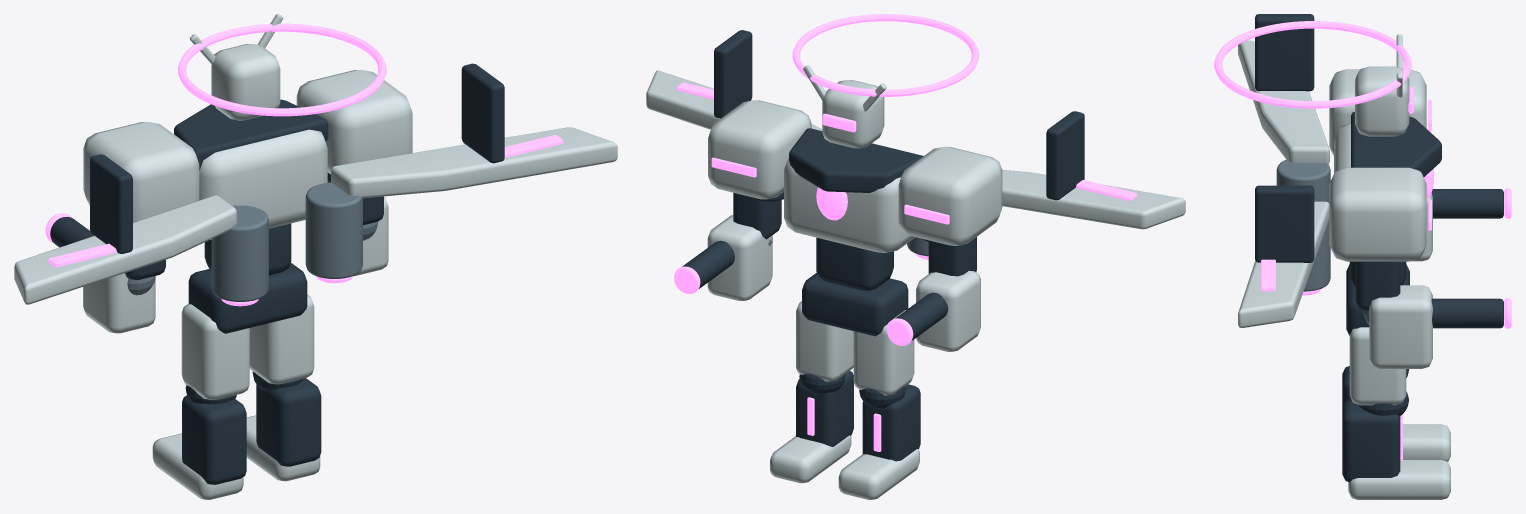
File: OracleFrame.fbx
The picture shows the model from 3 angles, left to right: view 1: azimuth 30°, elevation 25°; view 2: azimuth 150°, elevation 25°; view 3: azimuth 270°, elevation 25°; orthographic projection. The views are drawn at different scales.
Visible parts, largest first — view 1: Flight wing.001, Flight wing, Chest armor, Pauldron.001, Pauldron, Thigh armor, Back thruster.001, Shin armor, Shin armor.001, Back thruster, Pelvis armor, Chest collar (+13 smaller); view 2: Pauldron, Pauldron.001, Chest armor, Flight wing, Chest collar, Pelvis armor, Forearm weapon, Forearm weapon.001, Thigh armor, Oracle halo, Thigh armor.001, Shin armor (+18 smaller); view 3: Pauldron.001, Forearm weapon.001, Wing stabilizer.001, Flight wing, Wing stabilizer, Shin armor.001, Flight wing.001, Oracle halo, Chest collar, Helmet, Flight boot.001, Thigh armor.001 (+12 smaller).
Boxes of the visible parts, x1,y1,x2,y2 form: Flight wing.001: (331,127,617,198); Flight wing: (14,195,236,304); Chest armor: (199,129,327,239); Pauldron.001: (296,69,412,174); Pauldron: (83,122,199,222); Thigh armor: (181,303,249,399); Back thruster.001: (305,182,362,278); Shin armor: (182,395,246,484); Shin armor.001: (256,378,321,466); Back thruster: (211,205,268,301); Pelvis armor: (188,263,307,333); Chest collar: (174,99,328,169); Pauldron: (898,146,1002,245); Pauldron.001: (708,100,811,199); Chest armor: (784,157,915,252); Flight wing: (1002,169,1185,229); Chest collar: (789,128,923,192); Pelvis armor: (802,273,908,336); Forearm weapon: (916,270,980,351); Forearm weapon.001: (707,215,772,300); Thigh armor: (853,310,914,395); Oracle halo: (792,14,979,96); Thigh armor.001: (796,301,853,381); Shin armor: (862,384,920,461); Pauldron.001: (1329,167,1426,261); Forearm weapon.001: (1369,285,1432,368); Wing stabilizer.001: (1255,185,1314,262); Flight wing: (1238,40,1329,164); Wing stabilizer: (1255,14,1314,91); Shin armor.001: (1342,400,1400,482); Flight wing.001: (1238,201,1329,327); Oracle halo: (1214,21,1411,108); Chest collar: (1351,112,1441,176); Helmet: (1355,66,1409,136); Flight boot.001: (1348,459,1450,499); Thigh armor.001: (1349,327,1406,405).
Size of the model in its own units: 478 by 344 by 220.
